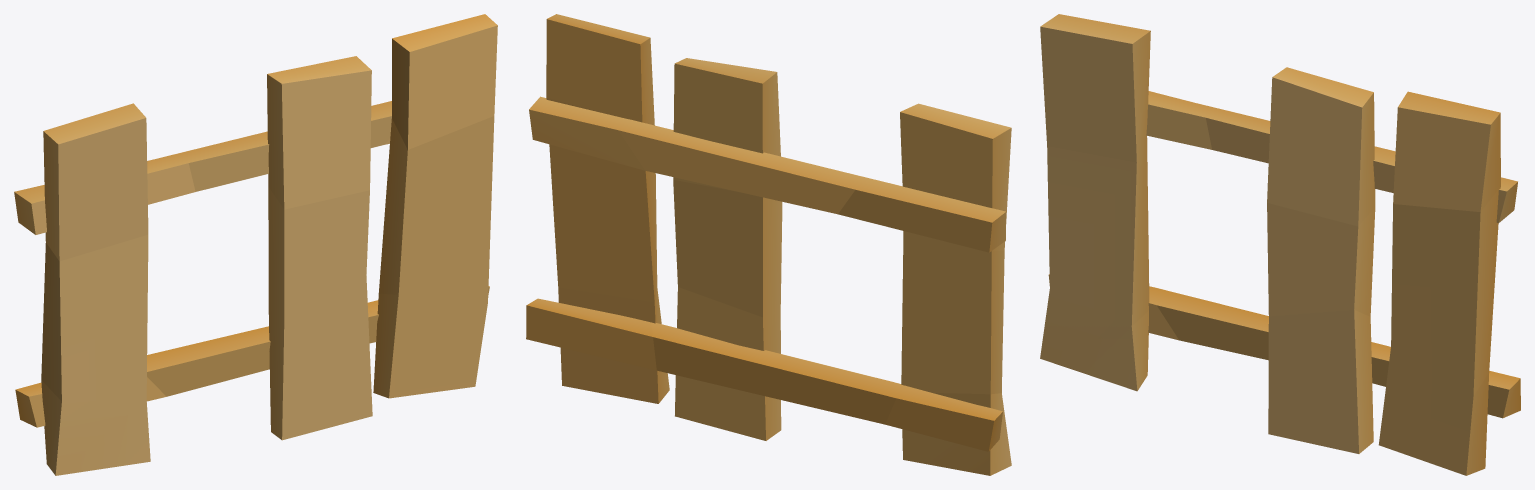
File: PagarKayu4.fbx
3 views of the same model, side by side, from view 1: azimuth 30°, elevation 25°; view 2: azimuth 150°, elevation 25°; view 3: azimuth 330°, elevation 25° (orthographic).
Parts seen in each view (by area): view 1: Fence_05; view 2: Fence_05; view 3: Fence_05.
Part boxes in pixels (left/top/right/bottom): Fence_05: left=14, top=14, right=497, bottom=475; Fence_05: left=526, top=14, right=1011, bottom=475; Fence_05: left=1040, top=14, right=1520, bottom=475.
Size of the model in its own units: 102 by 76.69 by 12.59.
